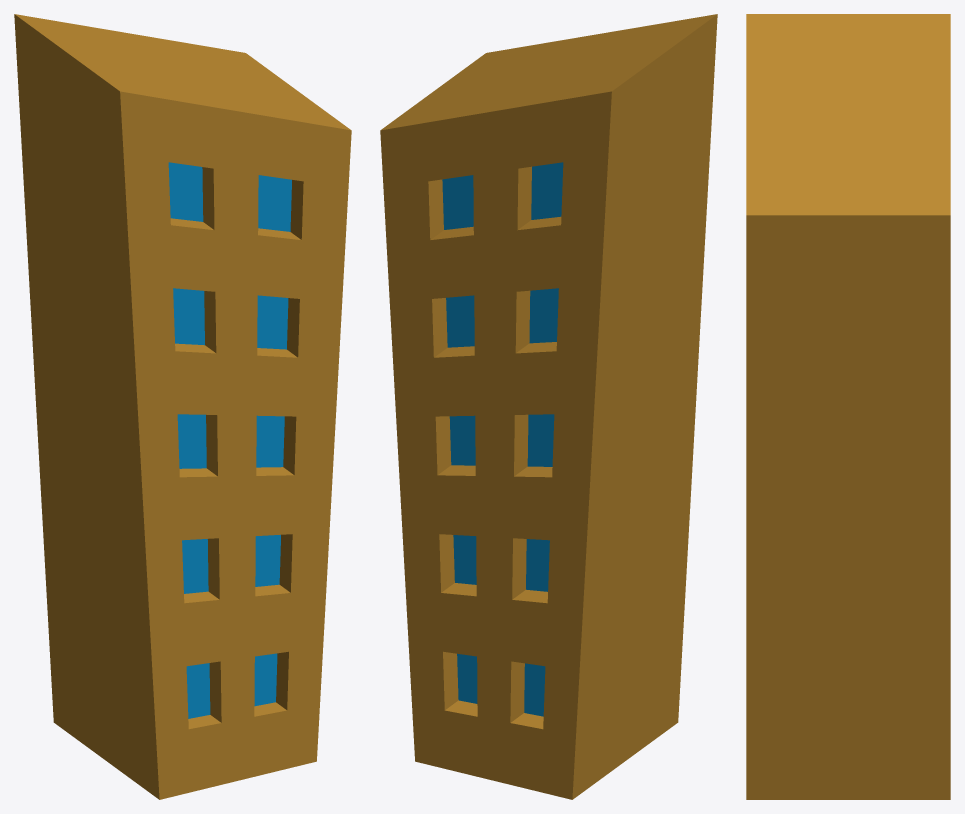
Rendered from Building3.fbx.
3 renders of one model, left to right at view 1: azimuth 30°, elevation 25°; view 2: azimuth 150°, elevation 25°; view 3: azimuth 270°, elevation 25°, orthographic. The views are drawn at different scales.
Parts seen in each view (by area): view 1: Cube; view 2: Cube; view 3: Cube.
Boxes of the visible parts, x1,y1,x2,y2 form: Cube: (14,14,351,799); Cube: (380,14,717,799); Cube: (746,14,950,799).
Size of the model in its own units: 357 by 1059 by 283.
